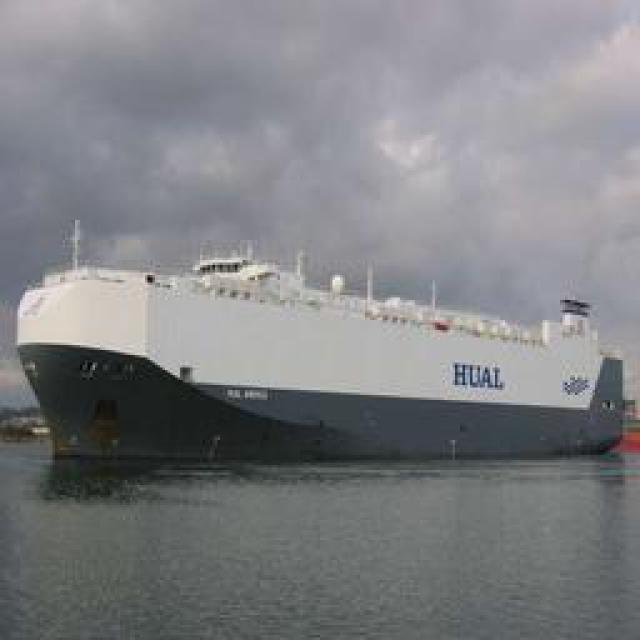Ship: (12, 245, 632, 470)
